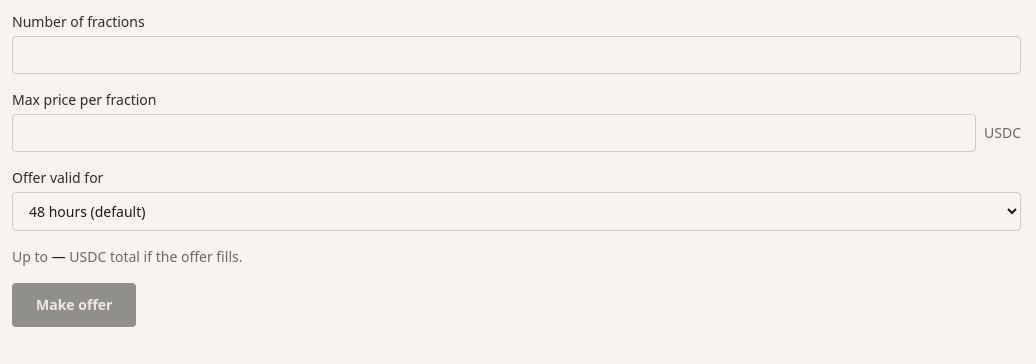
RfqForm › shows a price error only after the field is engaged (blur), and disables submit
Type "0" into the field labelled "Max price per fraction" at [494, 133], box 12,114 -> 976,152
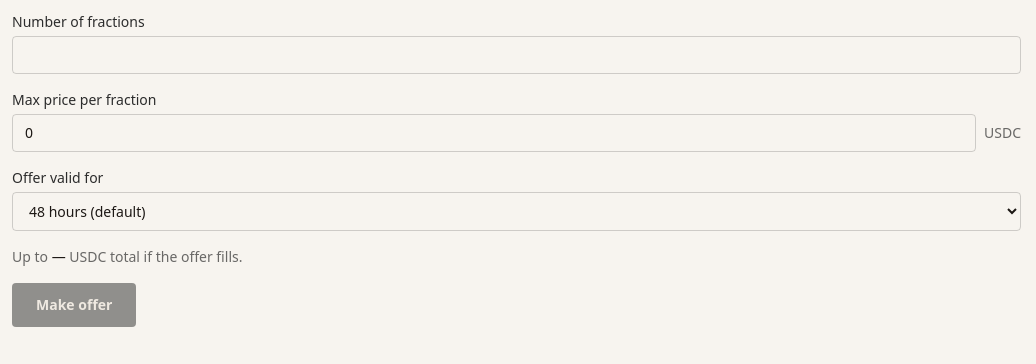
Expected: the text "above 0" is not shown
Leave the field labelled "Max price per fraction", box 12,114 -> 976,152
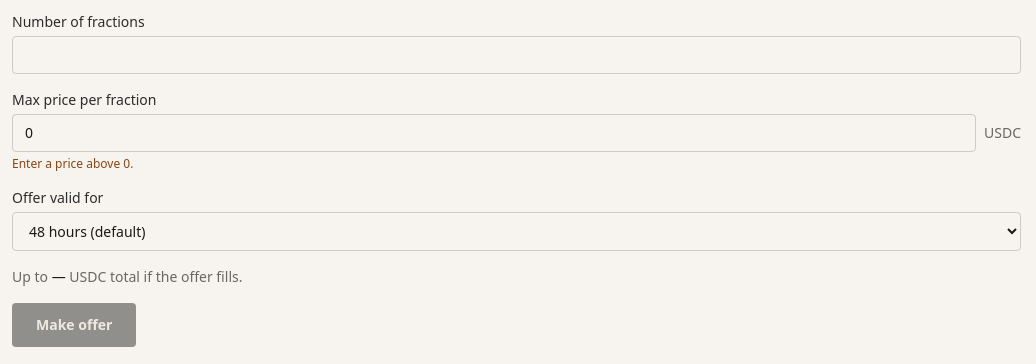
Now the text "Enter a price above 0." is shown, box 12,155 -> 133,172
